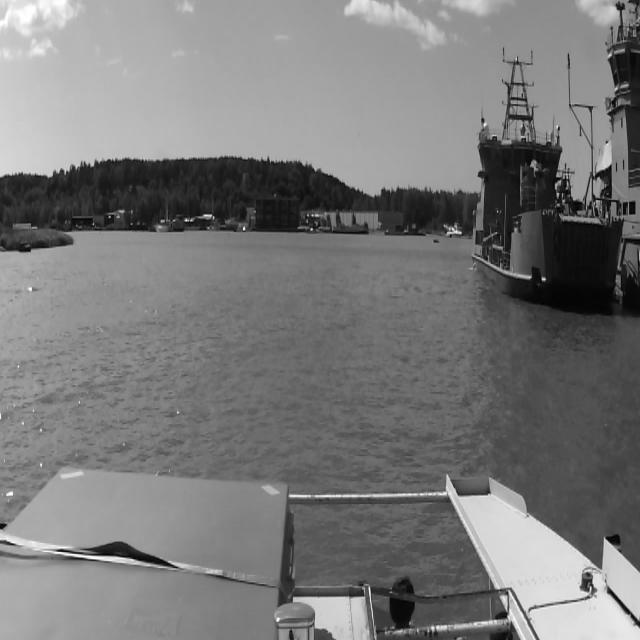ship: (471, 47, 622, 317), (446, 227, 462, 238), (433, 238, 439, 243)
